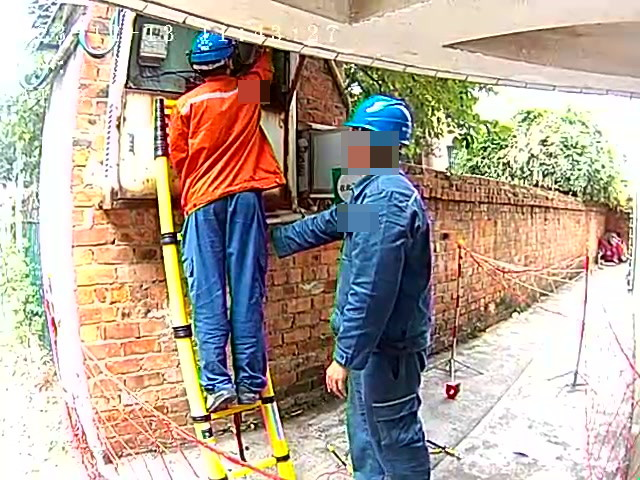downsuit: (187, 204, 272, 387), (348, 355, 436, 480)
halt: (342, 97, 412, 166), (187, 32, 237, 76)
hand: (321, 360, 353, 402)
inear: (353, 130, 376, 163)
person: (292, 93, 455, 480), (157, 29, 289, 418)
upsuit: (333, 171, 438, 356)
worksign: (330, 164, 358, 203)
yupsuit: (169, 73, 290, 198)
